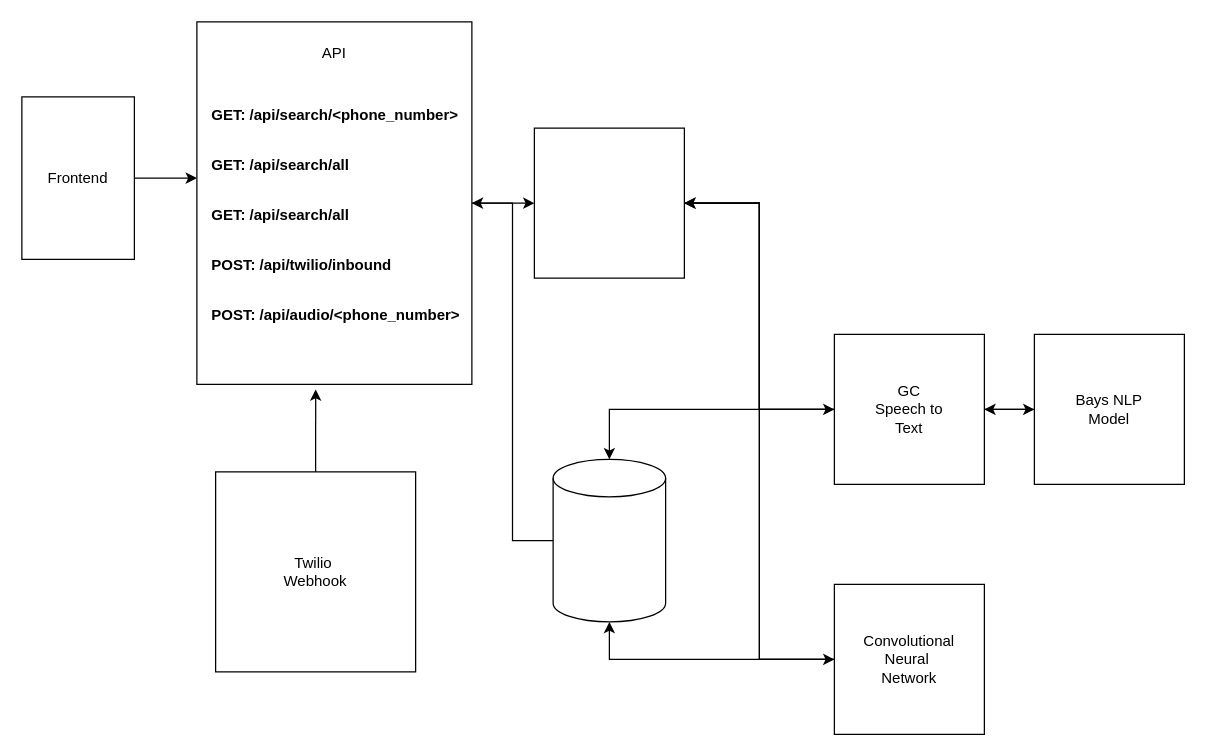
The diagram is 1206 pixels wide and 756 high, and some of its shapes have lost their labels. The shapes that lost their labels are listed below. From the top down, each one's centre as x and y in pixels, then its label:
the point at 608,202: Google Cloud Storage
the point at 609,540: Mongo
